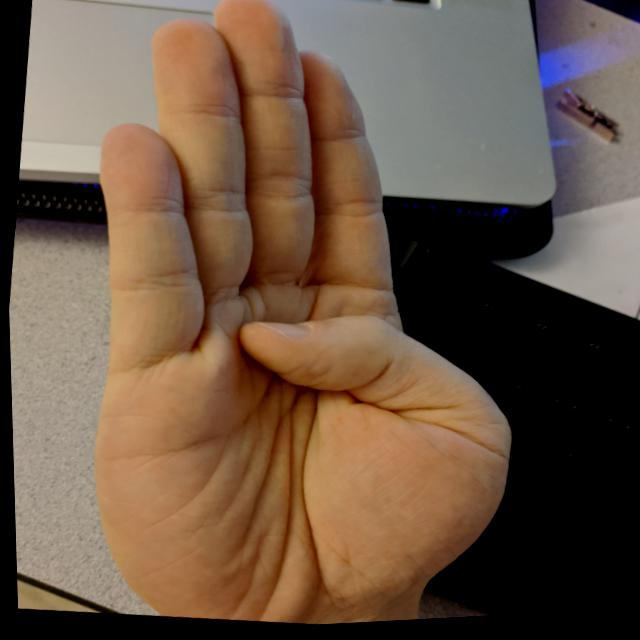B: (20, 0, 586, 638)
